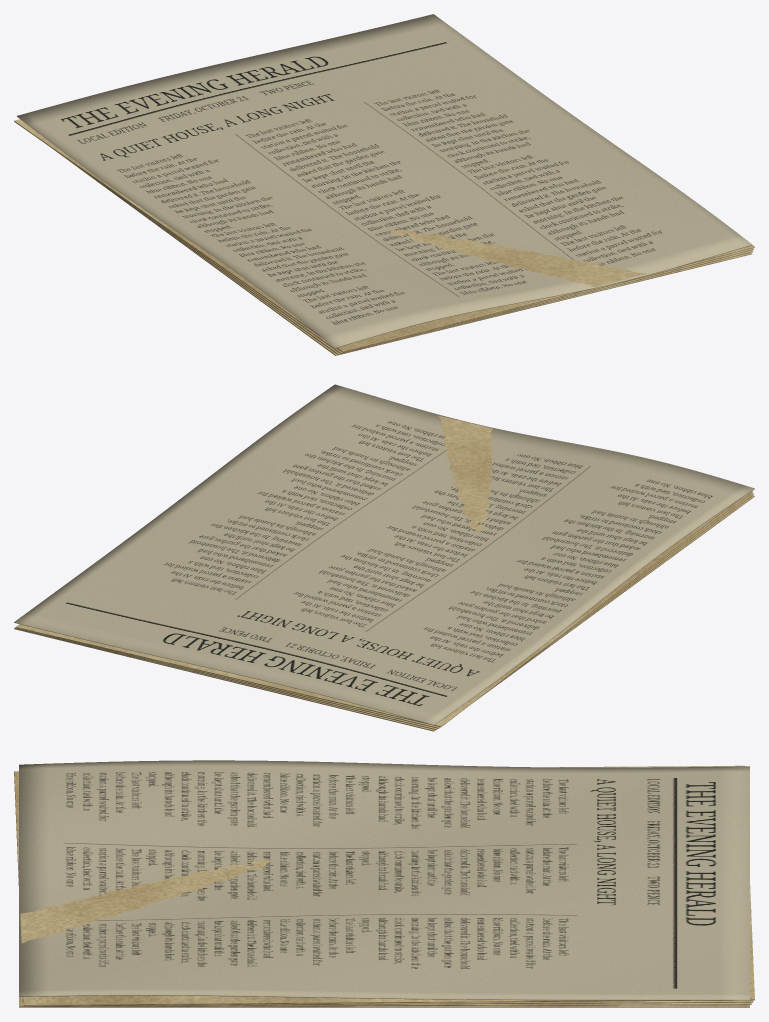
File: Newspaper.fbx
The picture shows the model from 3 angles, top to bottom: view 1: azimuth 30°, elevation 25°; view 2: azimuth 150°, elevation 25°; view 3: azimuth 270°, elevation 25°; orthographic projection. The views are drawn at different scales.
Parts seen in each view (by area): view 1: Newspaper_Newsprint, Newspaper_Paper; view 2: Newspaper_Newsprint, Newspaper_Paper; view 3: Newspaper_Newsprint, Newspaper_Paper.
Part boxes in pixels (box(x1,y1,x2,y2)): Newspaper_Newsprint: box(16, 14, 752, 348); Newspaper_Paper: box(14, 119, 754, 355); Newspaper_Newsprint: box(14, 384, 754, 725); Newspaper_Paper: box(14, 415, 754, 731); Newspaper_Newsprint: box(19, 760, 749, 1000); Newspaper_Paper: box(14, 765, 754, 1007).
Bounding box in the file's own units: 34.8 × 0.9473 × 45.6.
